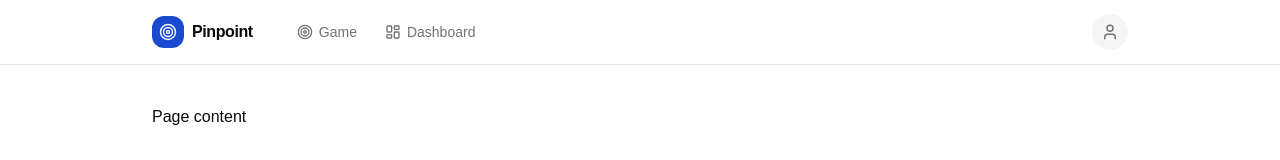
Test: AppShell profile menu › opens without throwing and shows the account email and log out item
Click the button named "account menu" at point(1110, 32), box [1092, 14, 1128, 50]
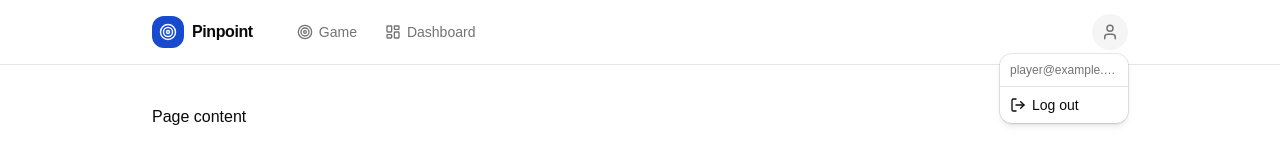
Now the text "player@example.com" is shown, box [1010, 63, 1126, 77]
Now the menu item "Log out" is shown, box [1010, 97, 1079, 113]
